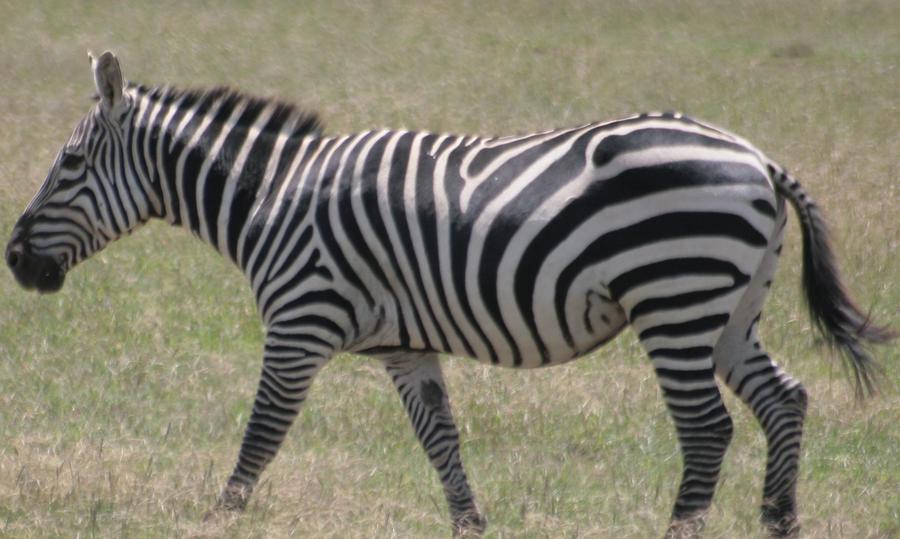zebra_plains: (216, 100, 750, 368)
